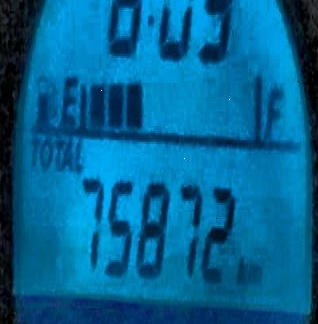2: (200, 177, 234, 285)
5: (105, 174, 133, 279)
7: (78, 170, 103, 278), (176, 177, 200, 281)
8: (134, 176, 169, 280)
X: (262, 84, 283, 138), (59, 72, 78, 125), (245, 260, 262, 283), (61, 136, 72, 170), (28, 134, 40, 165), (50, 136, 61, 168), (39, 135, 50, 167), (72, 136, 81, 168), (236, 251, 245, 283)
